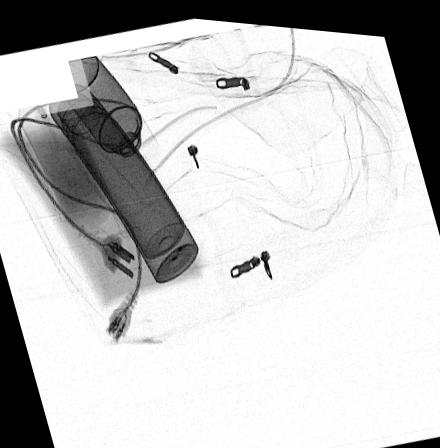Sprayer: (41, 54, 158, 167)
